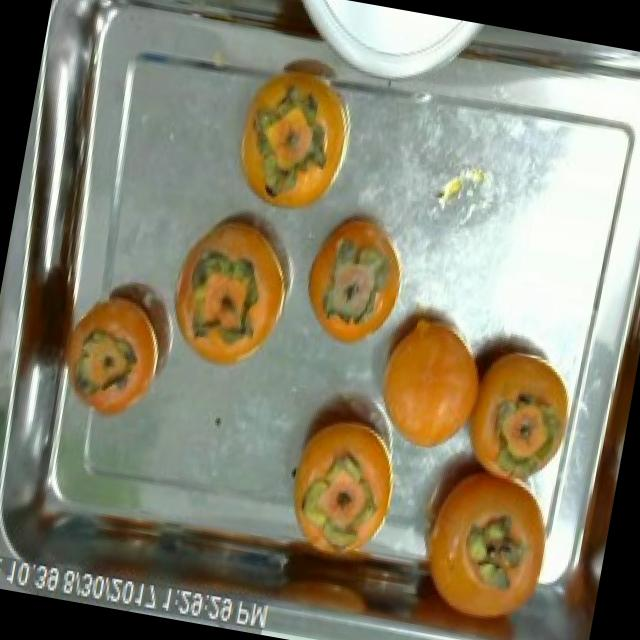Fruit: (389, 426, 565, 640), (217, 50, 372, 234), (154, 198, 305, 385), (270, 377, 416, 566), (356, 288, 505, 471), (447, 324, 582, 493), (288, 193, 420, 361), (58, 278, 180, 437)
